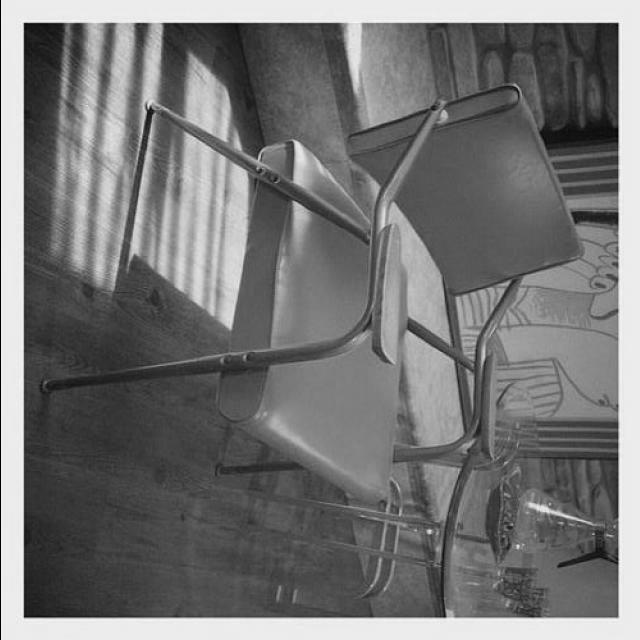chair: (35, 79, 588, 496)
